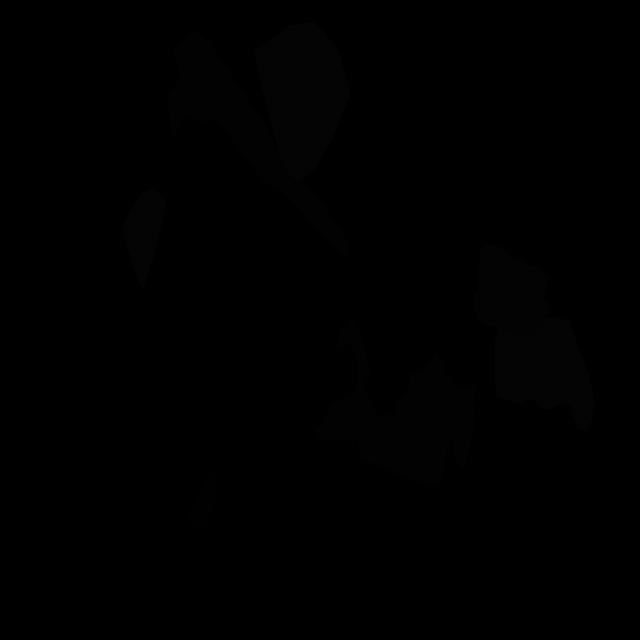cardboard: (166, 29, 350, 255), (314, 316, 477, 486)
metal: (474, 244, 550, 338)
rigid_plastic: (185, 466, 218, 531)
soft_plastic: (254, 22, 350, 183), (494, 317, 595, 432), (122, 188, 167, 291)
